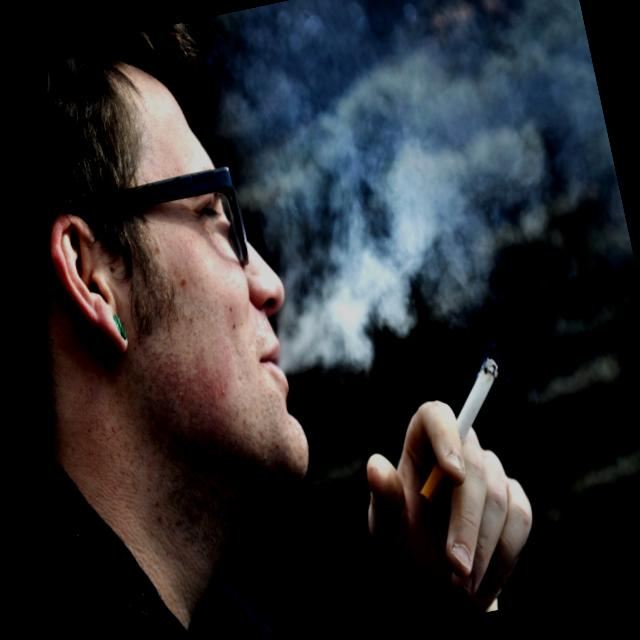smoke: (390, 346, 527, 504)
